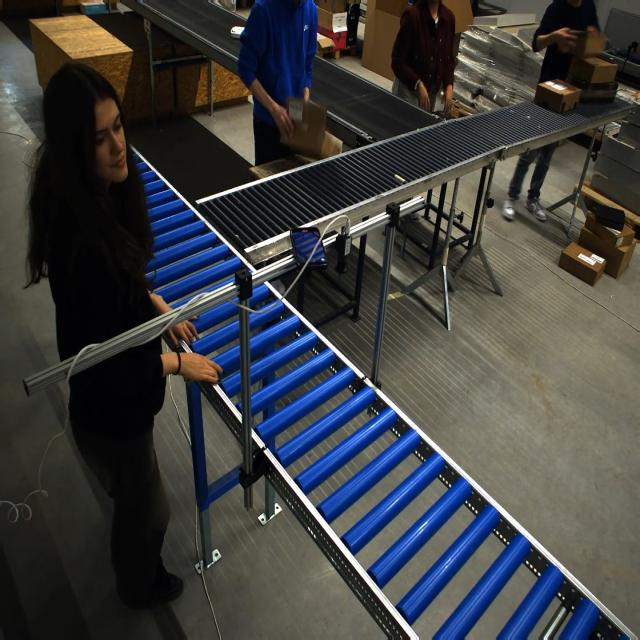box: (284, 96, 329, 159), (534, 80, 582, 115), (448, 98, 478, 120)
product: (596, 51, 621, 64), (230, 25, 244, 39)
